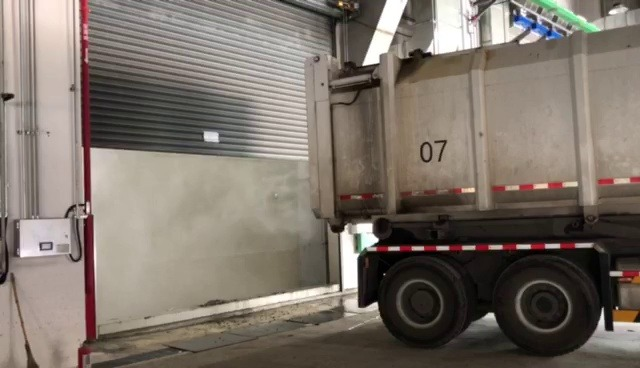dust: (97, 163, 309, 274)
truck: (296, 15, 640, 357)
